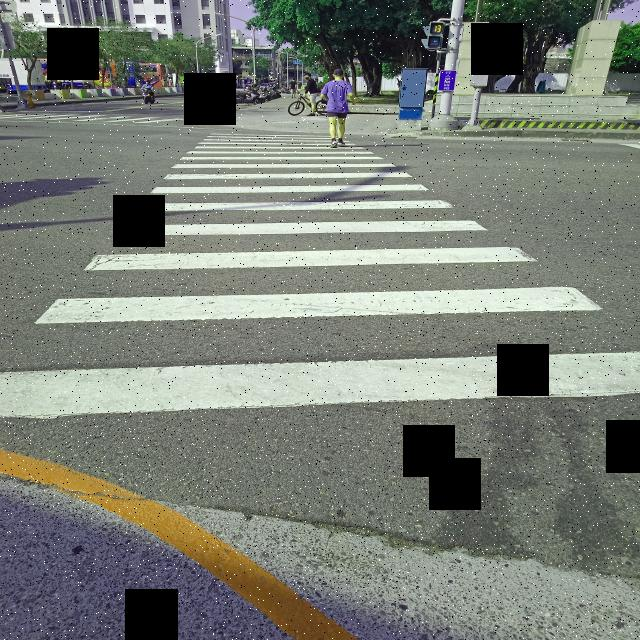zebra_crossing: (0, 132, 639, 420), (322, 69, 357, 148), (302, 72, 320, 115), (288, 80, 297, 99)
